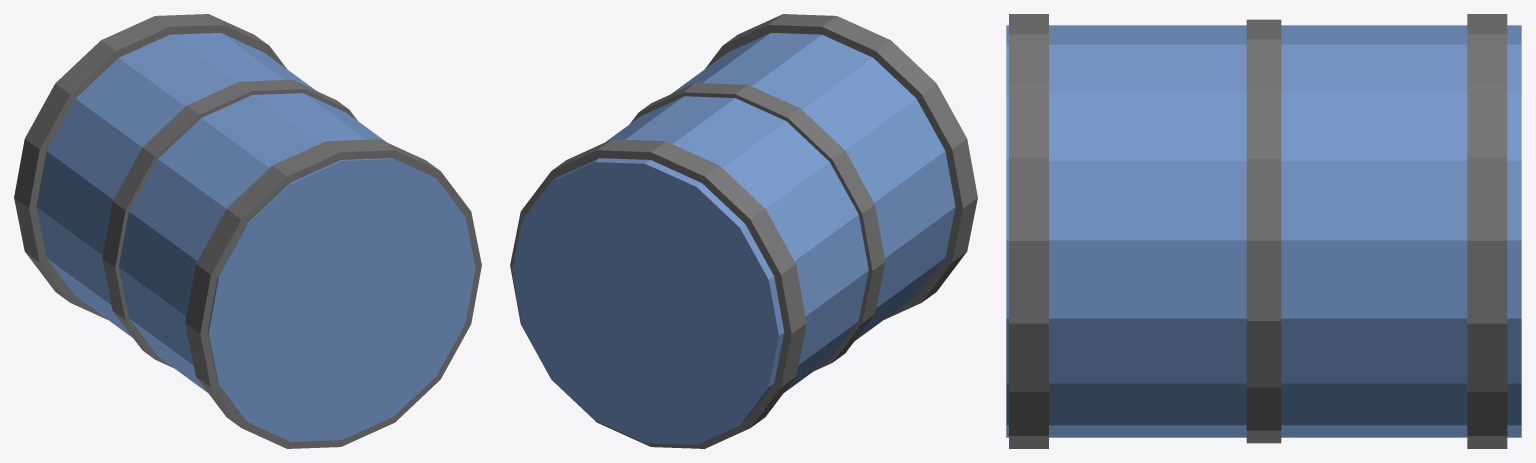
File: city_oil_barrel_blue.glb
The picture shows the model from 3 angles, left to right: view 1: azimuth 30°, elevation 25°; view 2: azimuth 150°, elevation 25°; view 3: azimuth 270°, elevation 25°; orthographic projection. The views are drawn at different scales.
Visible parts, largest first — view 1: barrel_body, barrel_top_ring, barrel_bottom_ring, barrel_mid_ring; view 2: barrel_body, barrel_bottom_ring, barrel_top_ring, barrel_mid_ring; view 3: barrel_body, barrel_bottom_ring, barrel_top_ring, barrel_mid_ring.
Part boxes in pixels (x1,y1,x2,y2): barrel_body: (36, 33, 475, 441); barrel_top_ring: (185, 139, 481, 448); barrel_bottom_ring: (14, 14, 286, 319); barrel_mid_ring: (102, 79, 357, 367); barrel_body: (512, 33, 955, 444); barrel_bottom_ring: (510, 139, 806, 448); barrel_top_ring: (705, 14, 977, 319); barrel_mid_ring: (630, 83, 885, 370); barrel_body: (1006, 25, 1521, 437); barrel_bottom_ring: (1467, 14, 1507, 448); barrel_top_ring: (1009, 14, 1048, 448); barrel_mid_ring: (1246, 19, 1281, 443).
Bounding box in the file's own units: 0.76 × 0.76 × 0.9.
